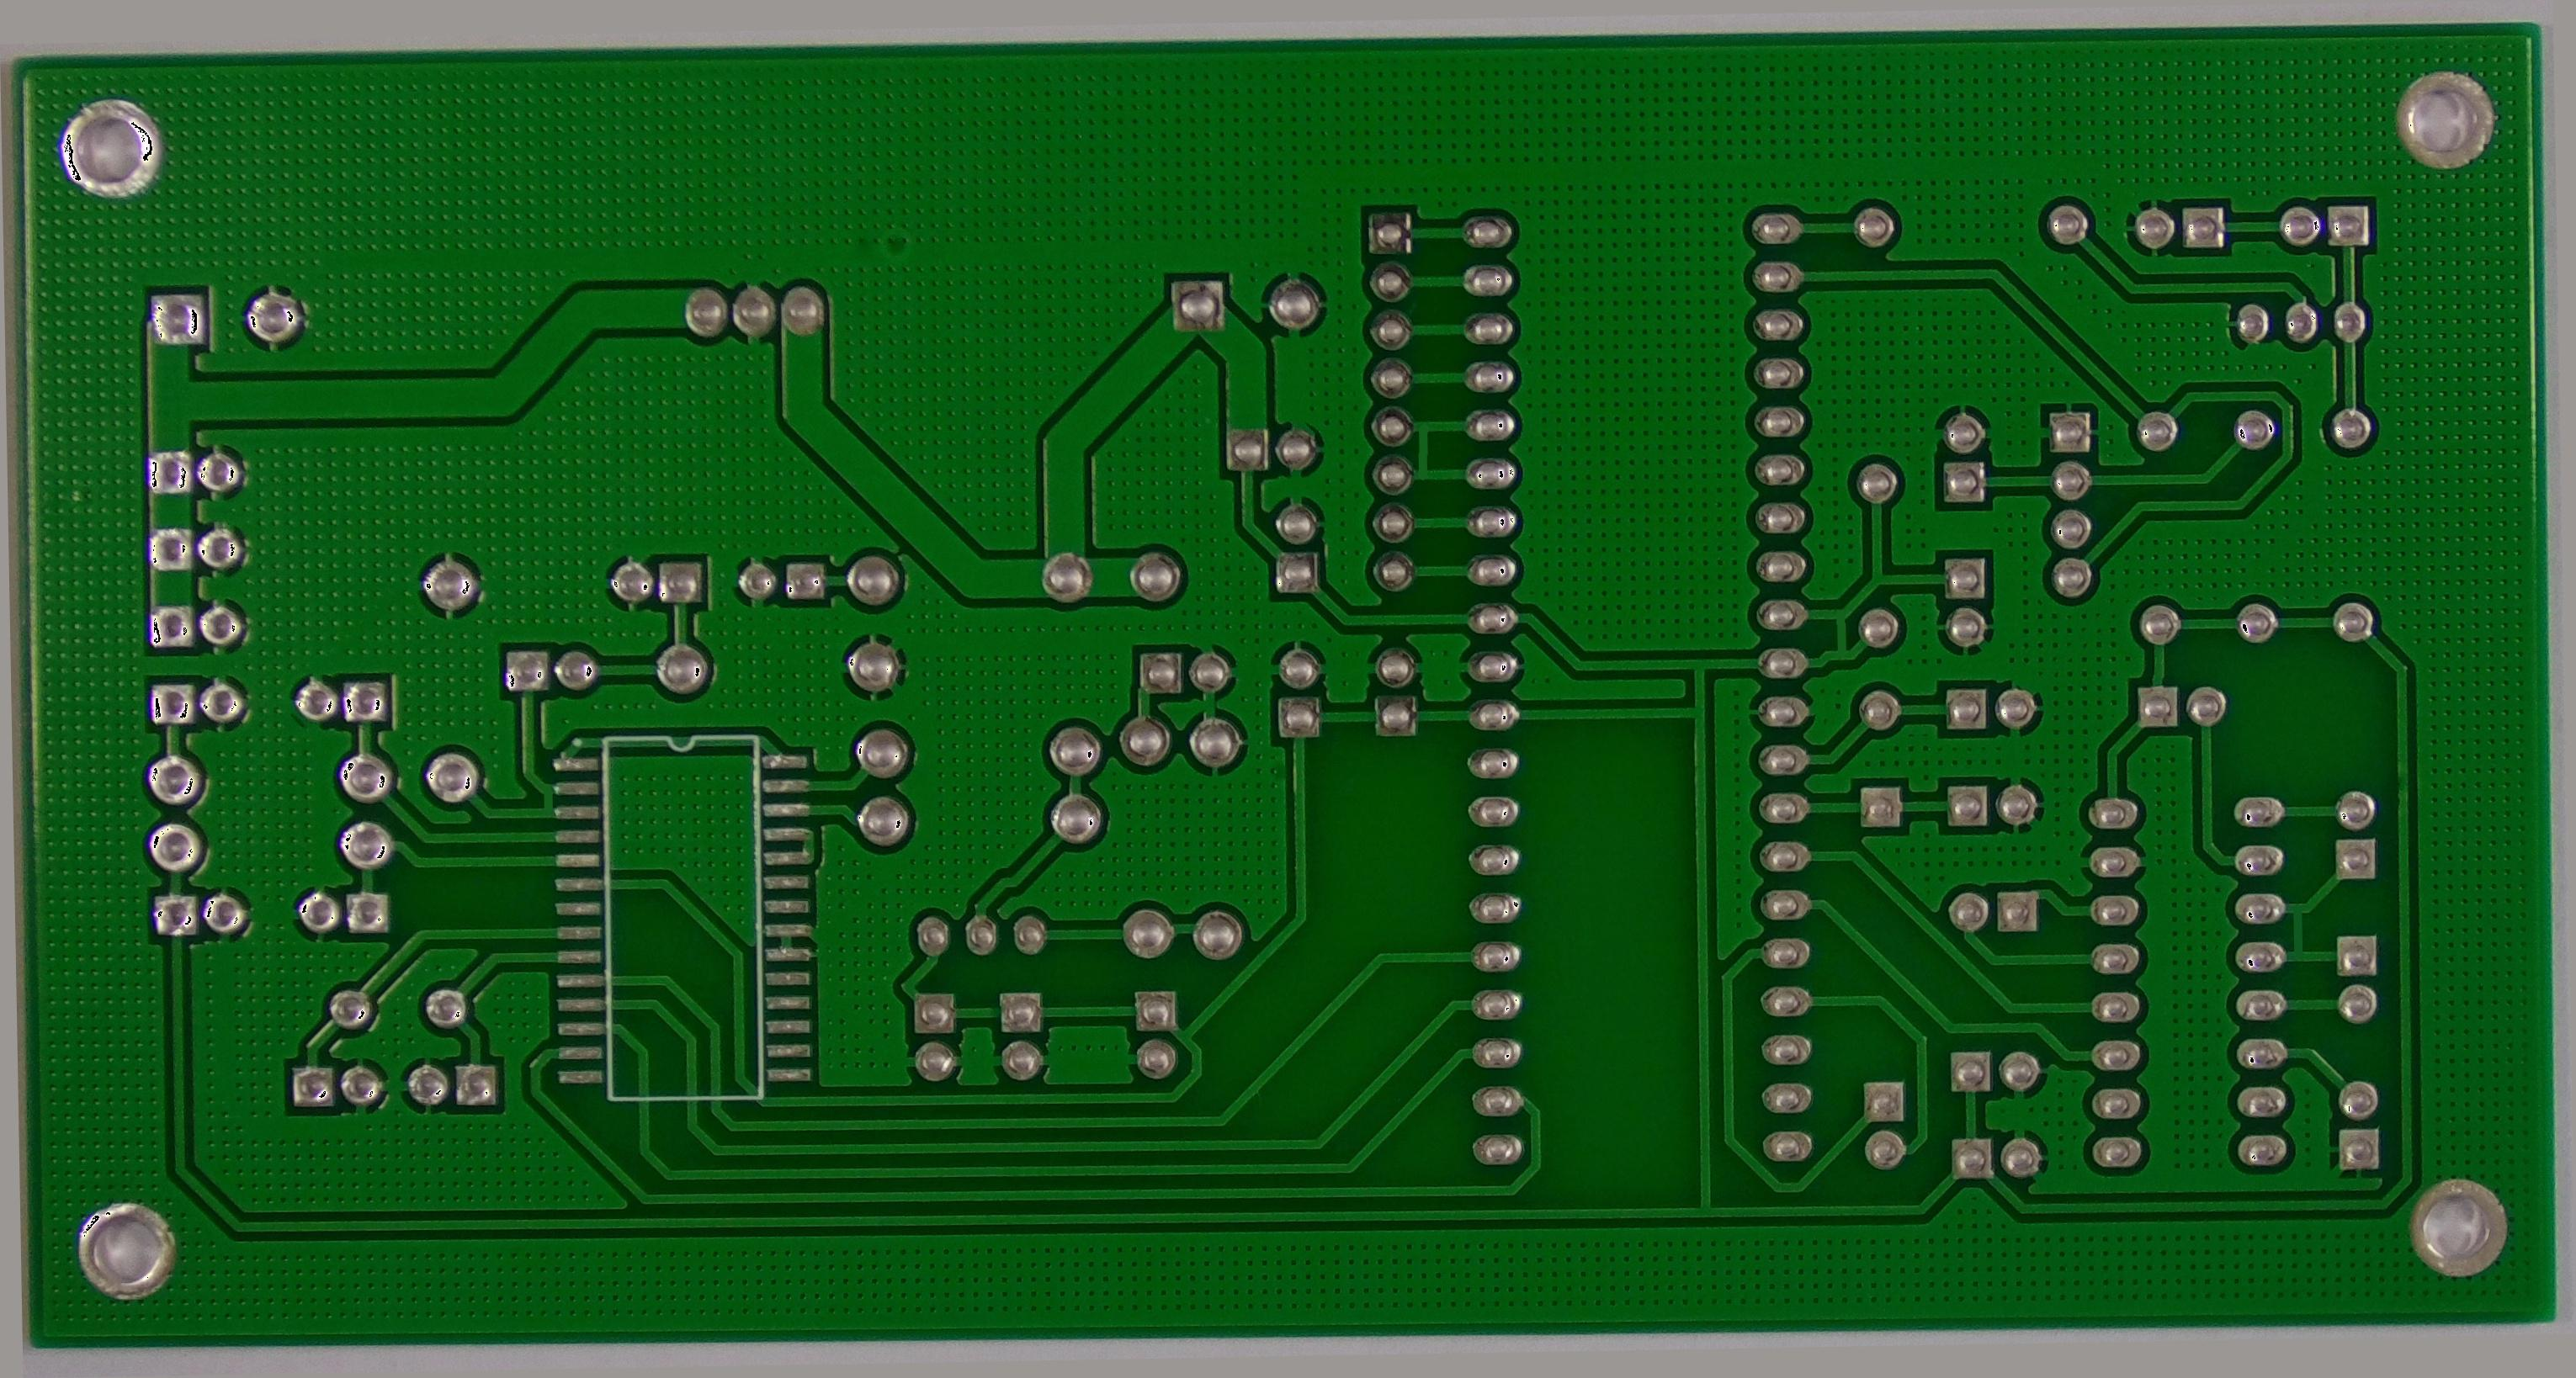short: (1380, 407, 1458, 494), (2266, 893, 2326, 973), (1813, 594, 1862, 664), (532, 777, 567, 819)
